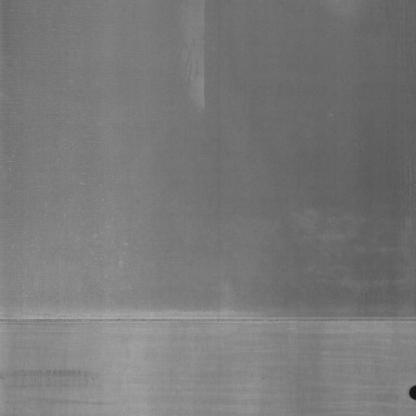punching_hole: (406, 382, 416, 403)
welding_line: (2, 301, 416, 341)
